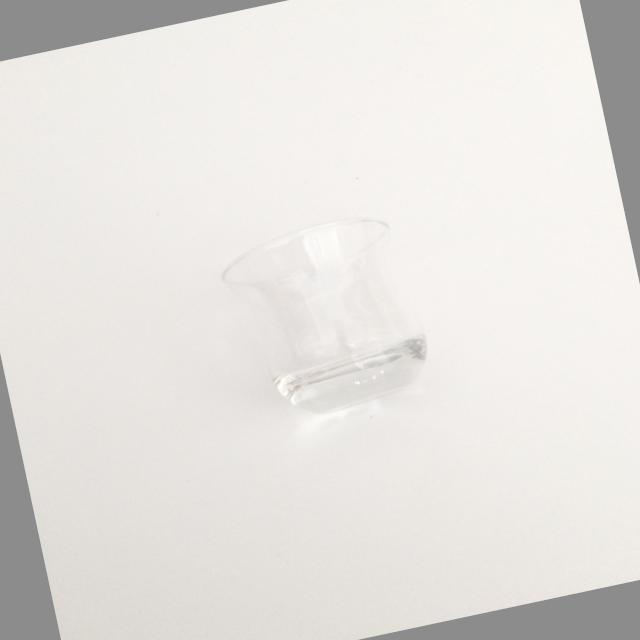Glass: (194, 184, 467, 466)
